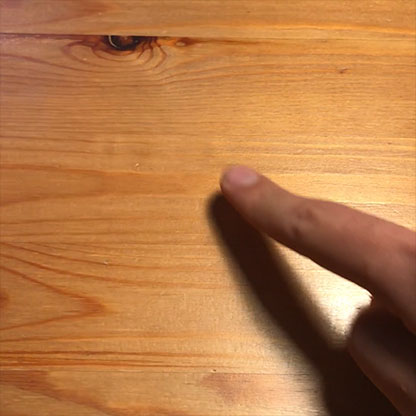fingertip: (213, 157, 266, 200)
